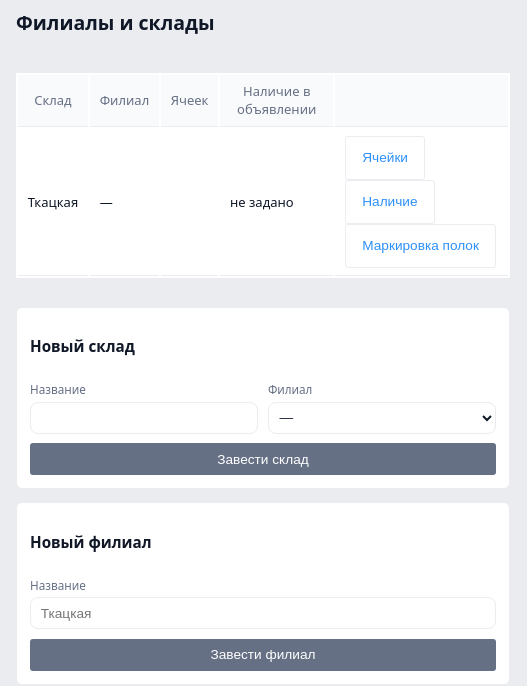
непечатаемые ячейки в списке › помечает то, что не напечатать, и объясняет почему
Expected: the text "Ткацкая" is shown, [18, 129, 88, 276]
Click the button "Ячейки": click(385, 158) [345, 136, 425, 180]
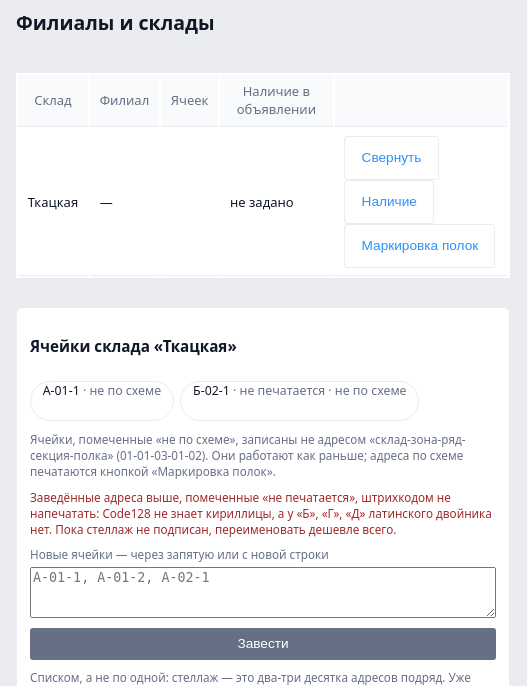
Expected: the text "Б-02-1" is shown, [193, 382, 230, 399]
Expected: the text "Code128 не знает кириллицы" is shown, [30, 489, 492, 537]
